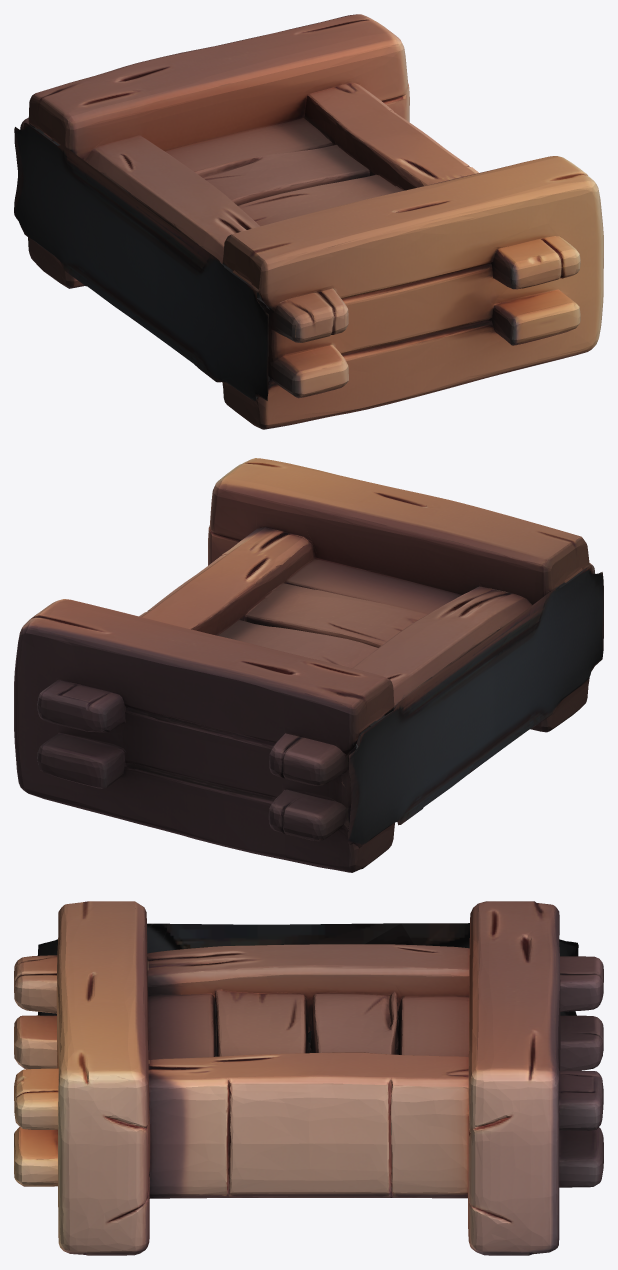
File: wall_segment_comfyui.glb
3 renders of one model, top to bottom at view 1: azimuth 30°, elevation 25°; view 2: azimuth 150°, elevation 25°; view 3: azimuth 270°, elevation 25°, orthographic. The views are drawn at different scales.
Size of the model in its own units: 0.7311 by 0.3541 by 0.9998.
Materials: 1 (1 with a texture image).
